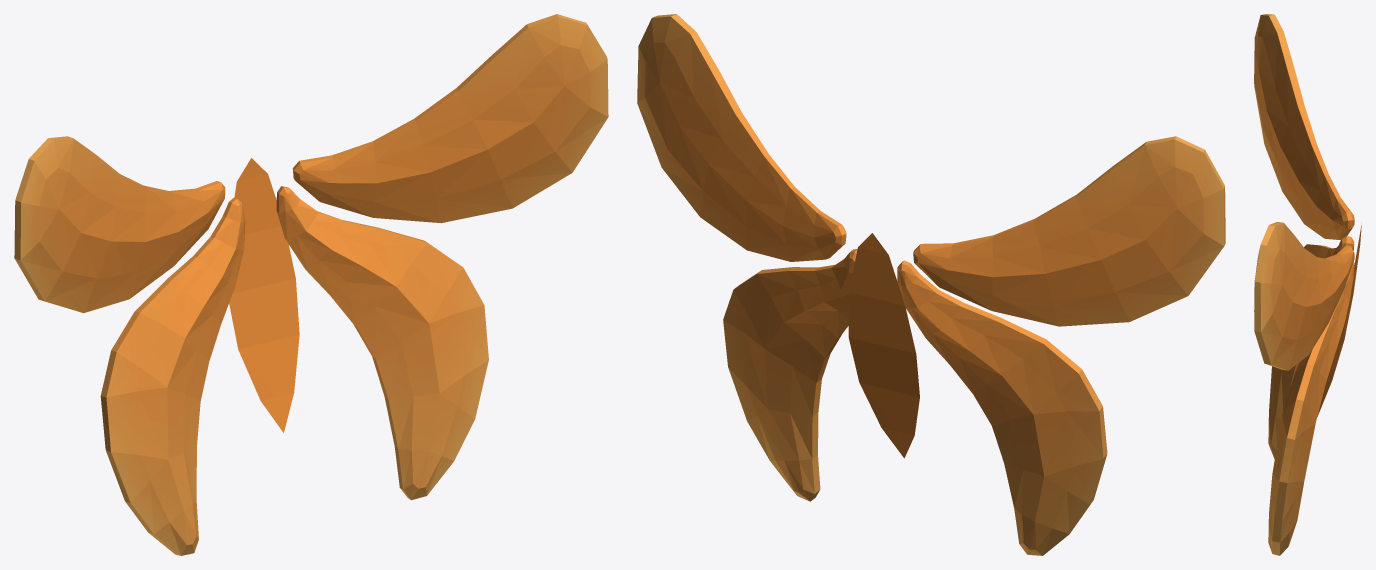
Rendered from CharSkyKid_Wing_AP16ButterflyYellow.glb.
3 renders of one model, left to right at view 1: azimuth 30°, elevation 25°; view 2: azimuth 150°, elevation 25°; view 3: azimuth 270°, elevation 25°, orthographic. The views are drawn at different scales.
Visible parts, largest first — view 1: CharSkyKid_Wing_AP16ButterflyYellow; view 2: CharSkyKid_Wing_AP16ButterflyYellow; view 3: CharSkyKid_Wing_AP16ButterflyYellow.
Part boxes in pixels (bbox=[...]): CharSkyKid_Wing_AP16ButterflyYellow: bbox=[14, 14, 608, 555]; CharSkyKid_Wing_AP16ButterflyYellow: bbox=[637, 14, 1225, 555]; CharSkyKid_Wing_AP16ButterflyYellow: bbox=[1254, 14, 1361, 555].
Bounding box in the file's own units: 11.11 × 8.1 × 2.05.
1 material, 1 textured.
